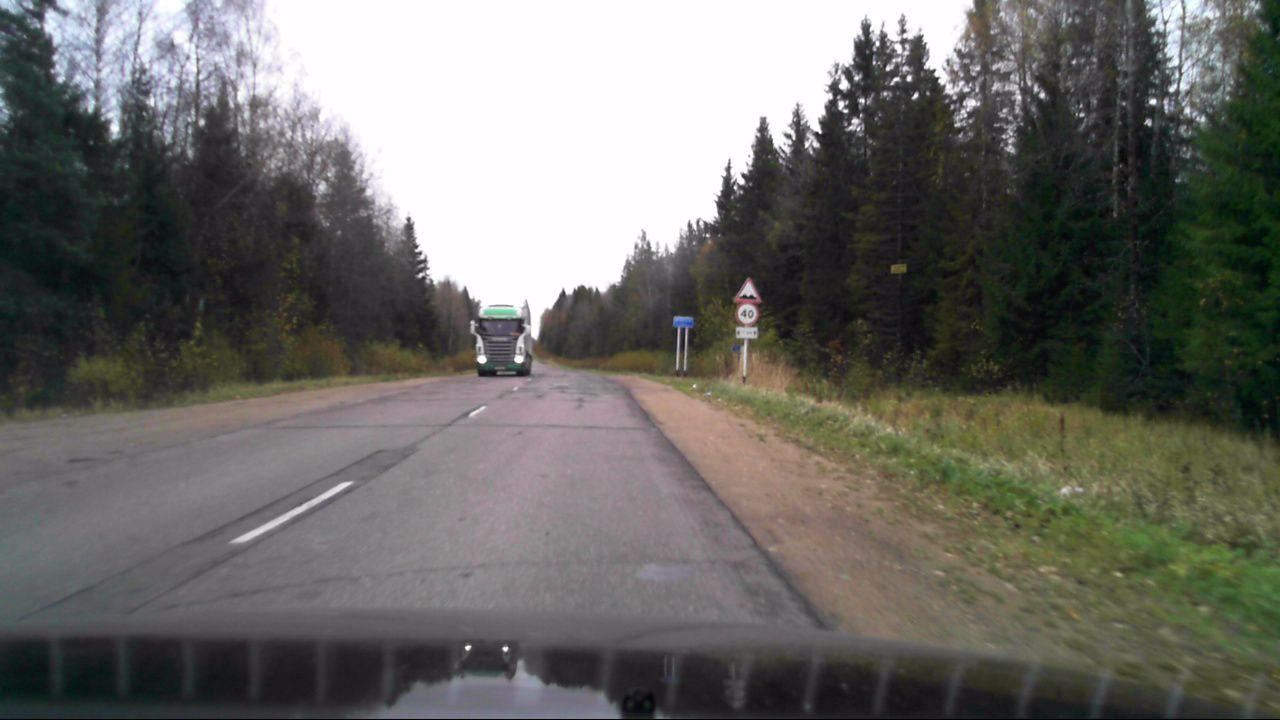1_16: (734, 276, 761, 303)
3_24: (734, 304, 760, 326)
8_2_1: (735, 326, 758, 339)
